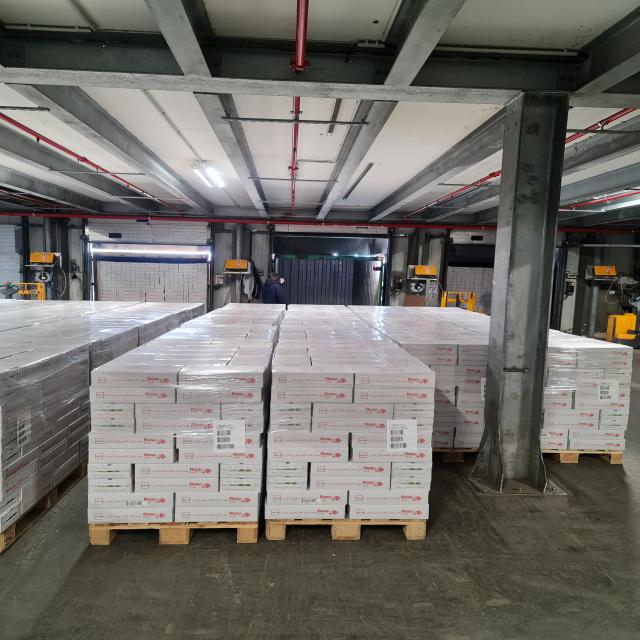Carton: (0, 261, 206, 535), (271, 305, 490, 449), (269, 402, 431, 490), (87, 449, 263, 523), (89, 364, 265, 432), (540, 328, 631, 448), (266, 462, 349, 505), (177, 387, 264, 420), (87, 434, 174, 463), (349, 491, 429, 520), (272, 365, 354, 388), (87, 508, 172, 523), (136, 404, 221, 419), (135, 419, 214, 435), (87, 464, 132, 492), (267, 448, 347, 463), (268, 433, 348, 448), (264, 505, 345, 519), (176, 434, 215, 449)
